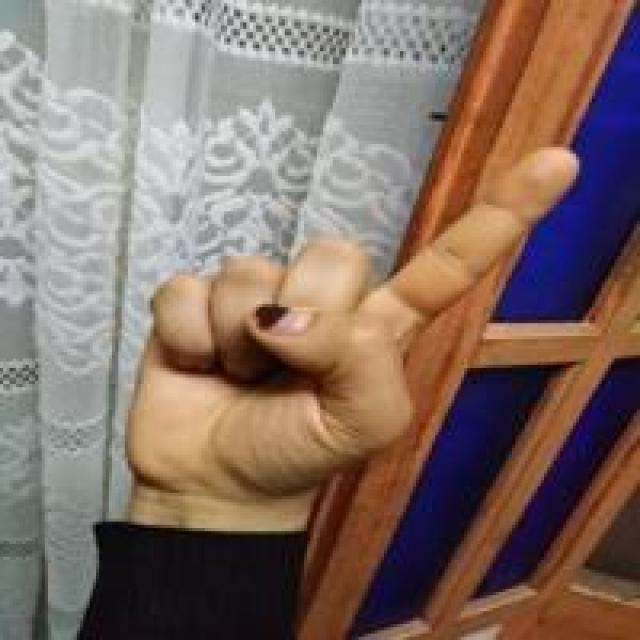Z: (127, 142, 578, 482)
